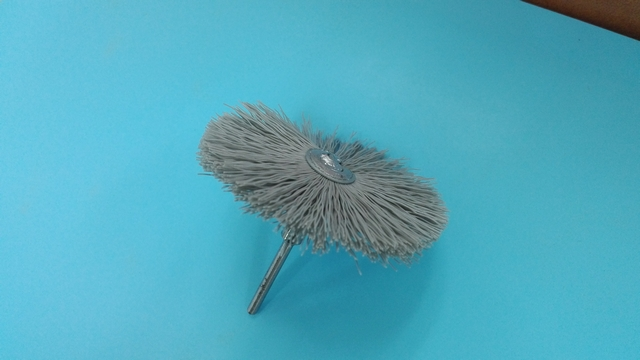TOOL: (145, 91, 500, 352), (179, 97, 453, 311), (131, 69, 365, 319)
